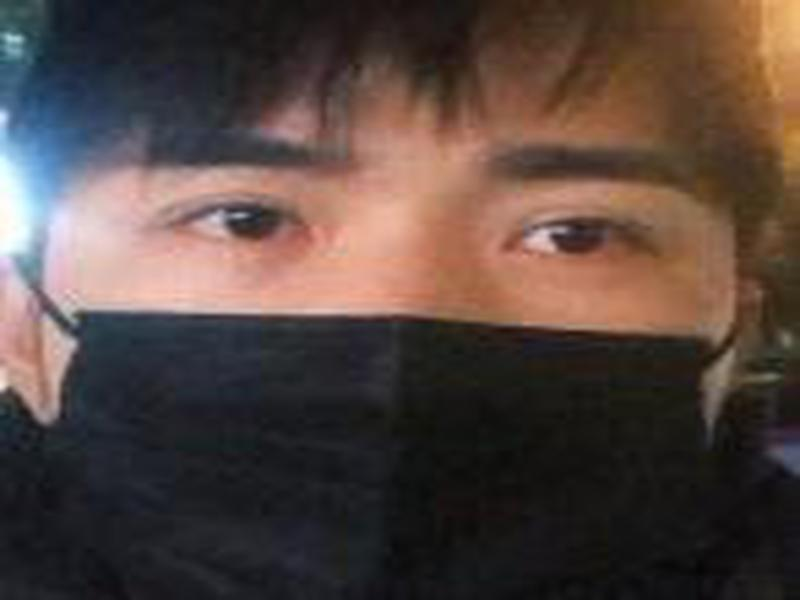with_mask: (1, 71, 758, 600)
